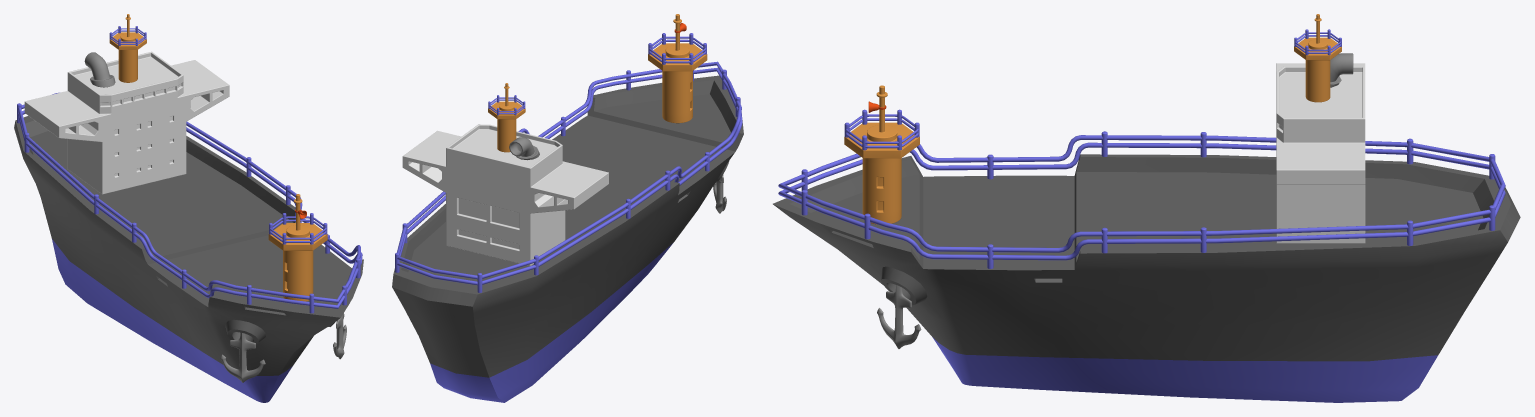
The model's file is sHIP.fbx.
3 views of the same model, side by side, from view 1: azimuth 30°, elevation 25°; view 2: azimuth 150°, elevation 25°; view 3: azimuth 270°, elevation 25° (orthographic). The views are drawn at different scales.
Visible parts, largest first — view 1: Cube, Cube.003, Cylinder.015, Cube.002_Curve.002, Cube.002_Curve.001, Plane.001, Cylinder.019, Plane_Curve; view 2: Cube, Cube.003, Cube.002_Curve.002, Cylinder.015, Cube.002_Curve.001, Cylinder.019, Plane_Curve, Plane.001; view 3: Cube, Cube.003, Cube.002_Curve.002, Cube.002_Curve.001, Cylinder.015, Cylinder.019, Plane.001.
Part boxes in pixels (x1,y1,x2,y2): Cube: (14,116,363,402); Cube.003: (24,51,229,194); Cylinder.015: (268,194,327,301); Cube.002_Curve.002: (18,92,360,302); Cube.002_Curve.001: (18,110,362,308); Plane.001: (220,313,346,382); Cylinder.019: (109,14,146,82); Plane_Curve: (84,52,115,87); Cube: (392,75,743,402); Cube.003: (402,124,608,265); Cube.002_Curve.002: (397,61,741,279); Cylinder.015: (648,14,707,123); Cube.002_Curve.001: (397,67,742,285); Cylinder.019: (488,83,525,152); Plane_Curve: (509,137,539,160); Plane.001: (713,175,726,213); Cube: (773,154,1520,402); Cube.003: (1276,63,1365,243); Cube.002_Curve.002: (778,135,1505,252); Cube.002_Curve.001: (778,142,1505,260); Cylinder.015: (844,85,919,224); Cylinder.019: (1294,14,1341,102); Plane.001: (877,285,921,348).
Size of the model in its own units: 513 by 823 by 1518.
